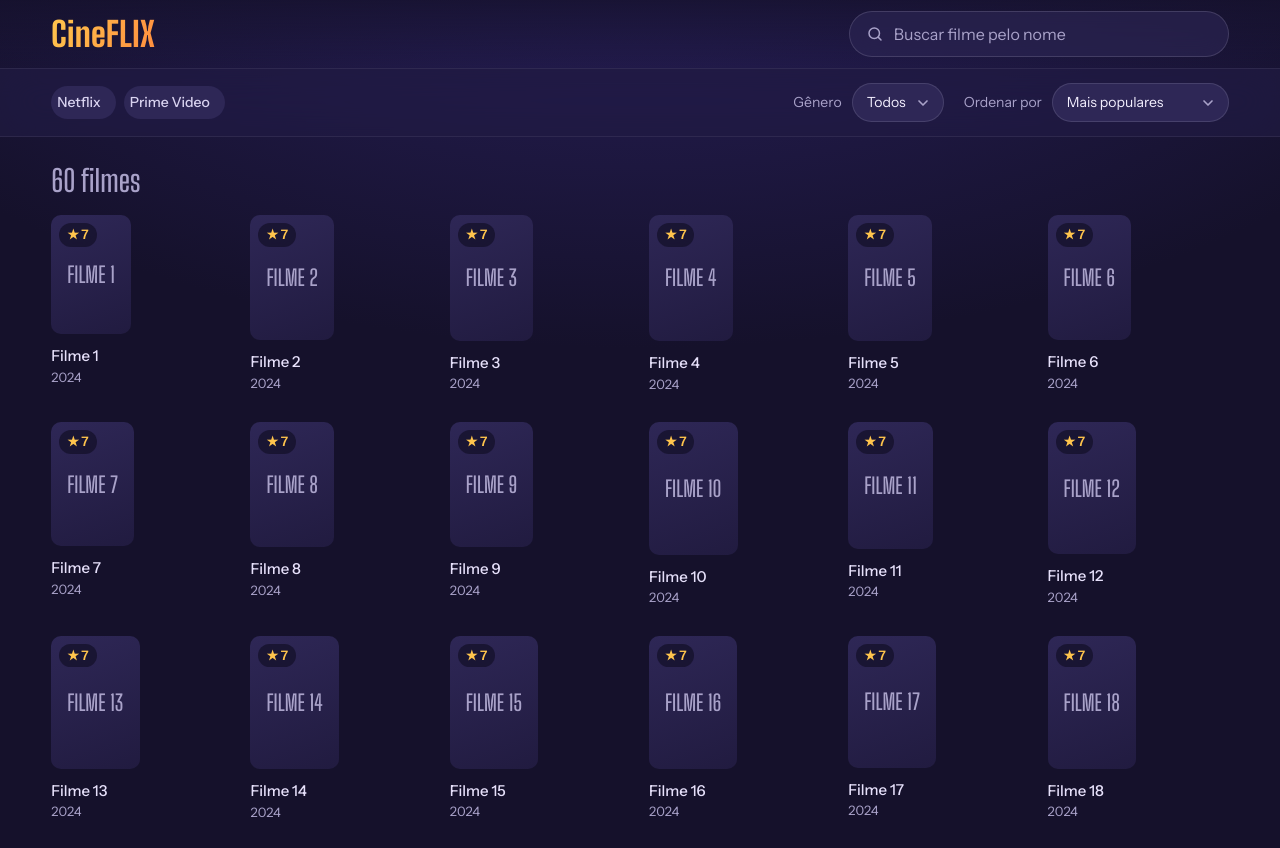
Test: busca › busca por nome uma vez só, pausa os filtros e pagina pela busca
Later steps or results of the test are not shown.
Expected: the text "60 filmes" is shown, [51,162,140,198]
In the search field labelled "Buscar filme": (1053, 34) [894,12,1212,56], type "batman"
(page scrolled)
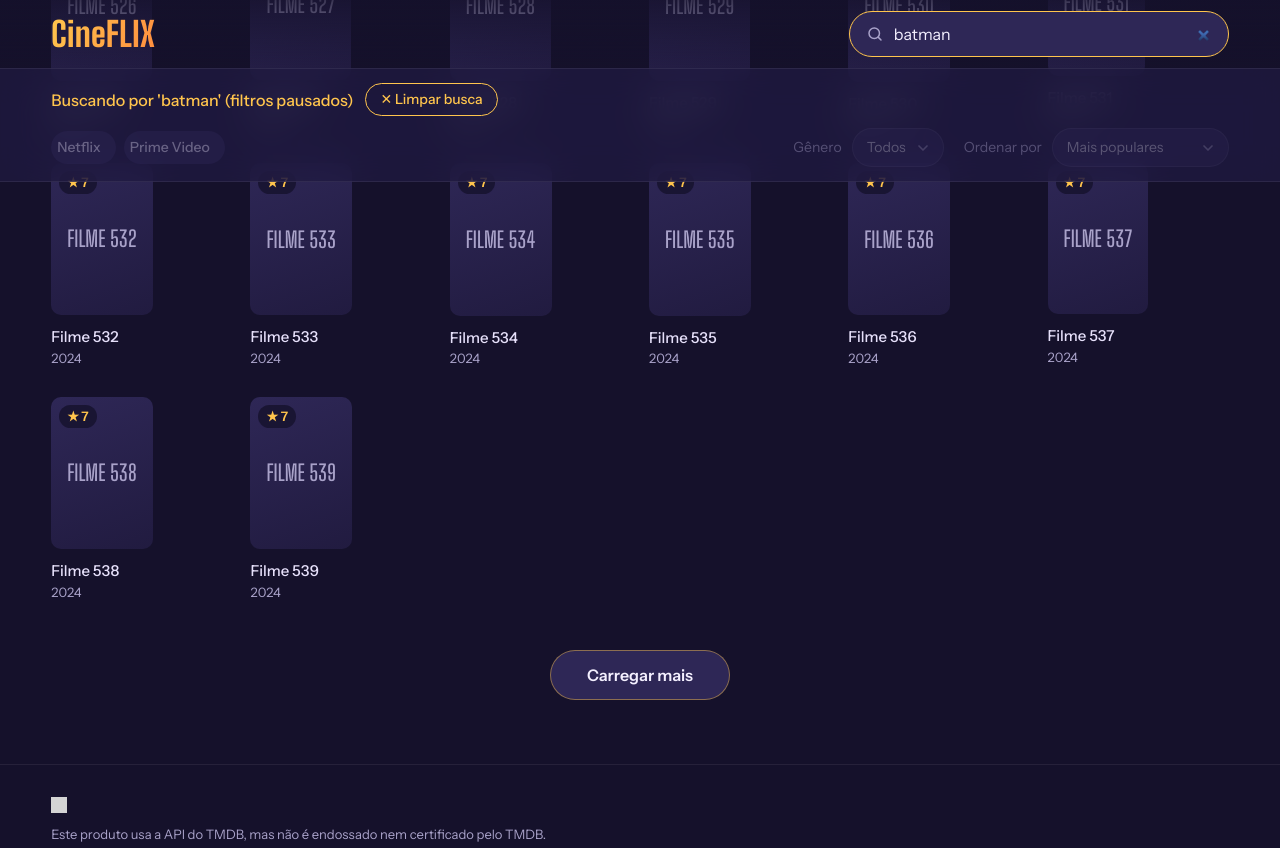
Result: the text "Buscando por 'batman' (filtros pausados)" is shown at [51,88,354,112]
Result: the button "Netflix" is disabled at [51,131,116,164]
